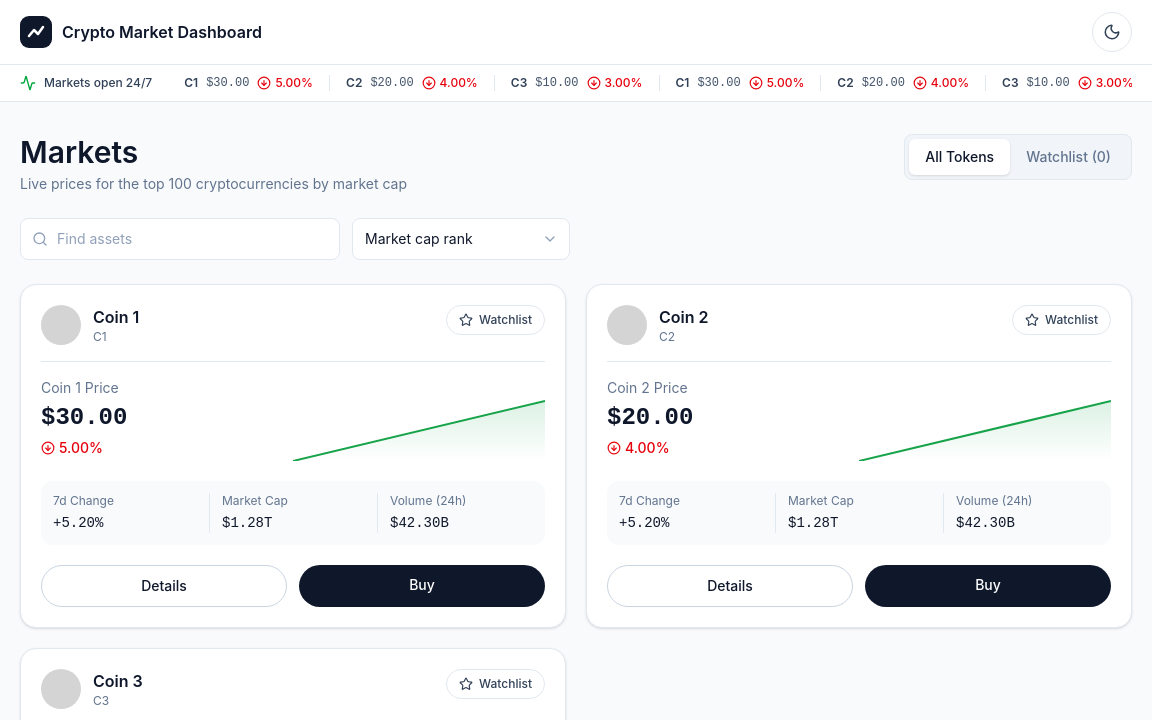
Test: Markets dashboard › shows an empty state when the search matches nothing
The width and height of the screenshot is (1152, 720).
Expected: the heading "Coin 1" is shown, [93,305,139,329]
Type "zzz" into the search field. click: (180, 239)
box: [20,218,340,260]
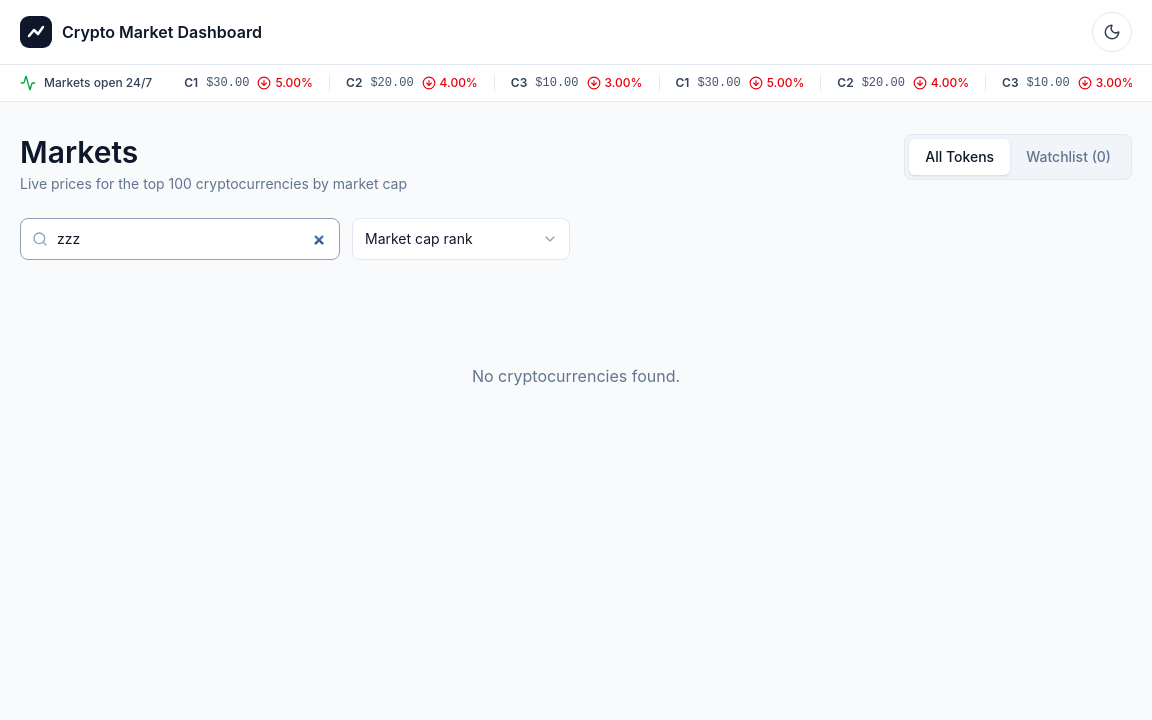
Now the text "No cryptocurrencies found." is shown, box [472,366,680,386]
